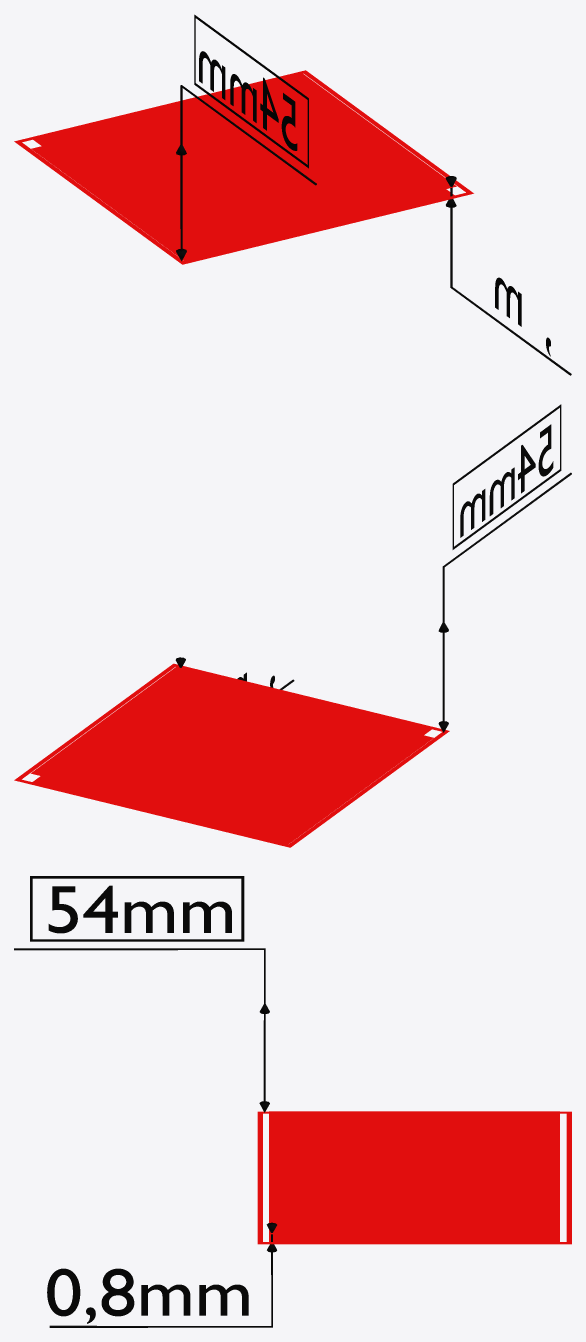
3 renders of one model, top to bottom at view 1: azimuth 30°, elevation 25°; view 2: azimuth 150°, elevation 25°; view 3: azimuth 270°, elevation 25°, orthographic. The views are drawn at different scales.
Visible parts, largest first — view 1: ZT_localisation1, Text.003, cadre, NurbsPath.003, NurbsPath.002, Text.002; view 2: ZT_localisation1, Text.003, cadre, NurbsPath.003; view 3: ZT_localisation1, Text.002, Text.003, cadre, NurbsPath.003, NurbsPath.002.
Part boxes in pixels (x1,y1,x2,y2): ZT_localisation1: (14, 70, 473, 264); Text.003: (199, 51, 297, 150); cadre: (194, 14, 308, 168); NurbsPath.003: (180, 85, 316, 251); NurbsPath.002: (450, 187, 571, 375); Text.002: (495, 277, 550, 356); ZT_localisation1: (14, 663, 449, 847); Text.003: (460, 424, 553, 537); cadre: (452, 404, 561, 549); NurbsPath.003: (442, 472, 571, 723); ZT_localisation1: (257, 1111, 571, 1244); Text.002: (47, 1268, 248, 1323); Text.003: (48, 885, 231, 933); cadre: (30, 876, 244, 941); NurbsPath.003: (14, 948, 265, 1103); NurbsPath.002: (49, 1232, 272, 1327).
Bounding box in the file's own units: 2.92 × 3.33 × 5.14.
